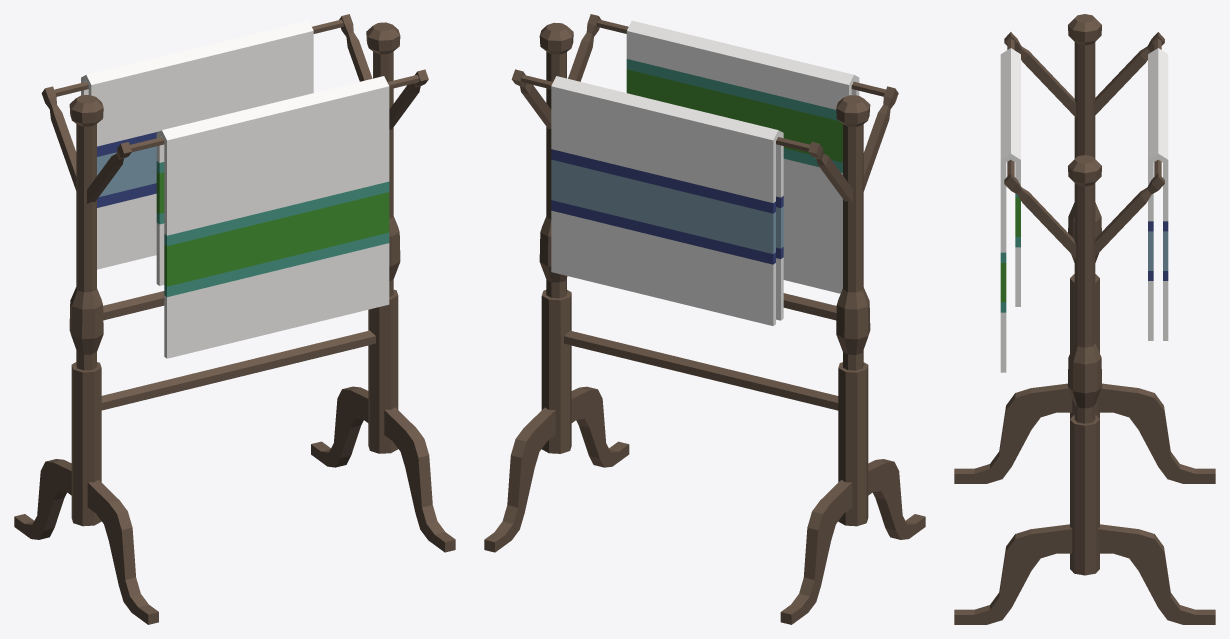
Rendered from Hanger_witg_towels.fbx.
The picture shows the model from 3 angles, left to right: view 1: azimuth 30°, elevation 25°; view 2: azimuth 150°, elevation 25°; view 3: azimuth 270°, elevation 25°; orthographic projection. The views are drawn at different scales.
Visible parts, largest first — view 1: Hanger_witg_towels; view 2: Hanger_witg_towels; view 3: Hanger_witg_towels.
Part boxes in pixels (box(x1,y1,x2,y2)): Hanger_witg_towels: box(14, 14, 455, 624); Hanger_witg_towels: box(484, 14, 925, 624); Hanger_witg_towels: box(954, 14, 1215, 624).
Size of the model in its own units: 53.84 by 38.21 by 74.72.
